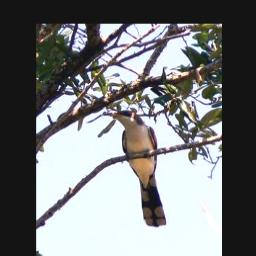Cuckoo: (103, 109, 169, 229)
